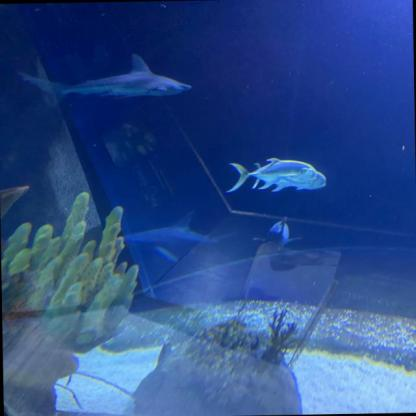fish: (227, 158, 314, 190), (254, 160, 332, 194), (258, 219, 296, 255)
shark: (16, 52, 196, 99), (110, 218, 230, 270)
